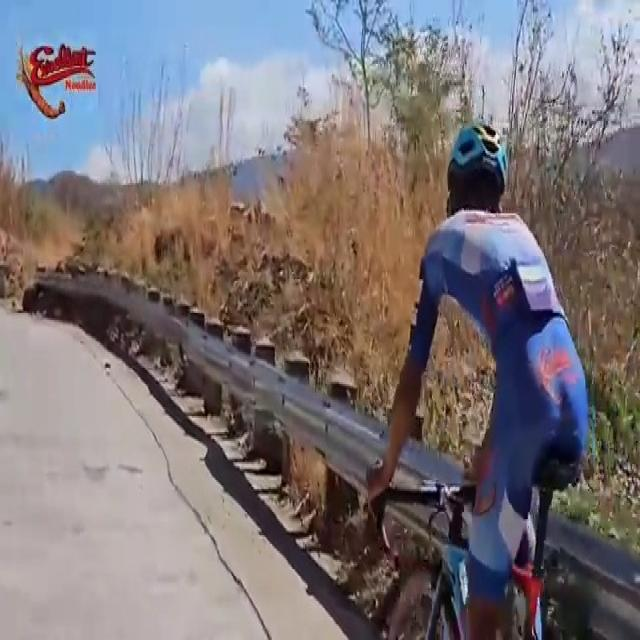bike: (358, 122, 590, 640)
